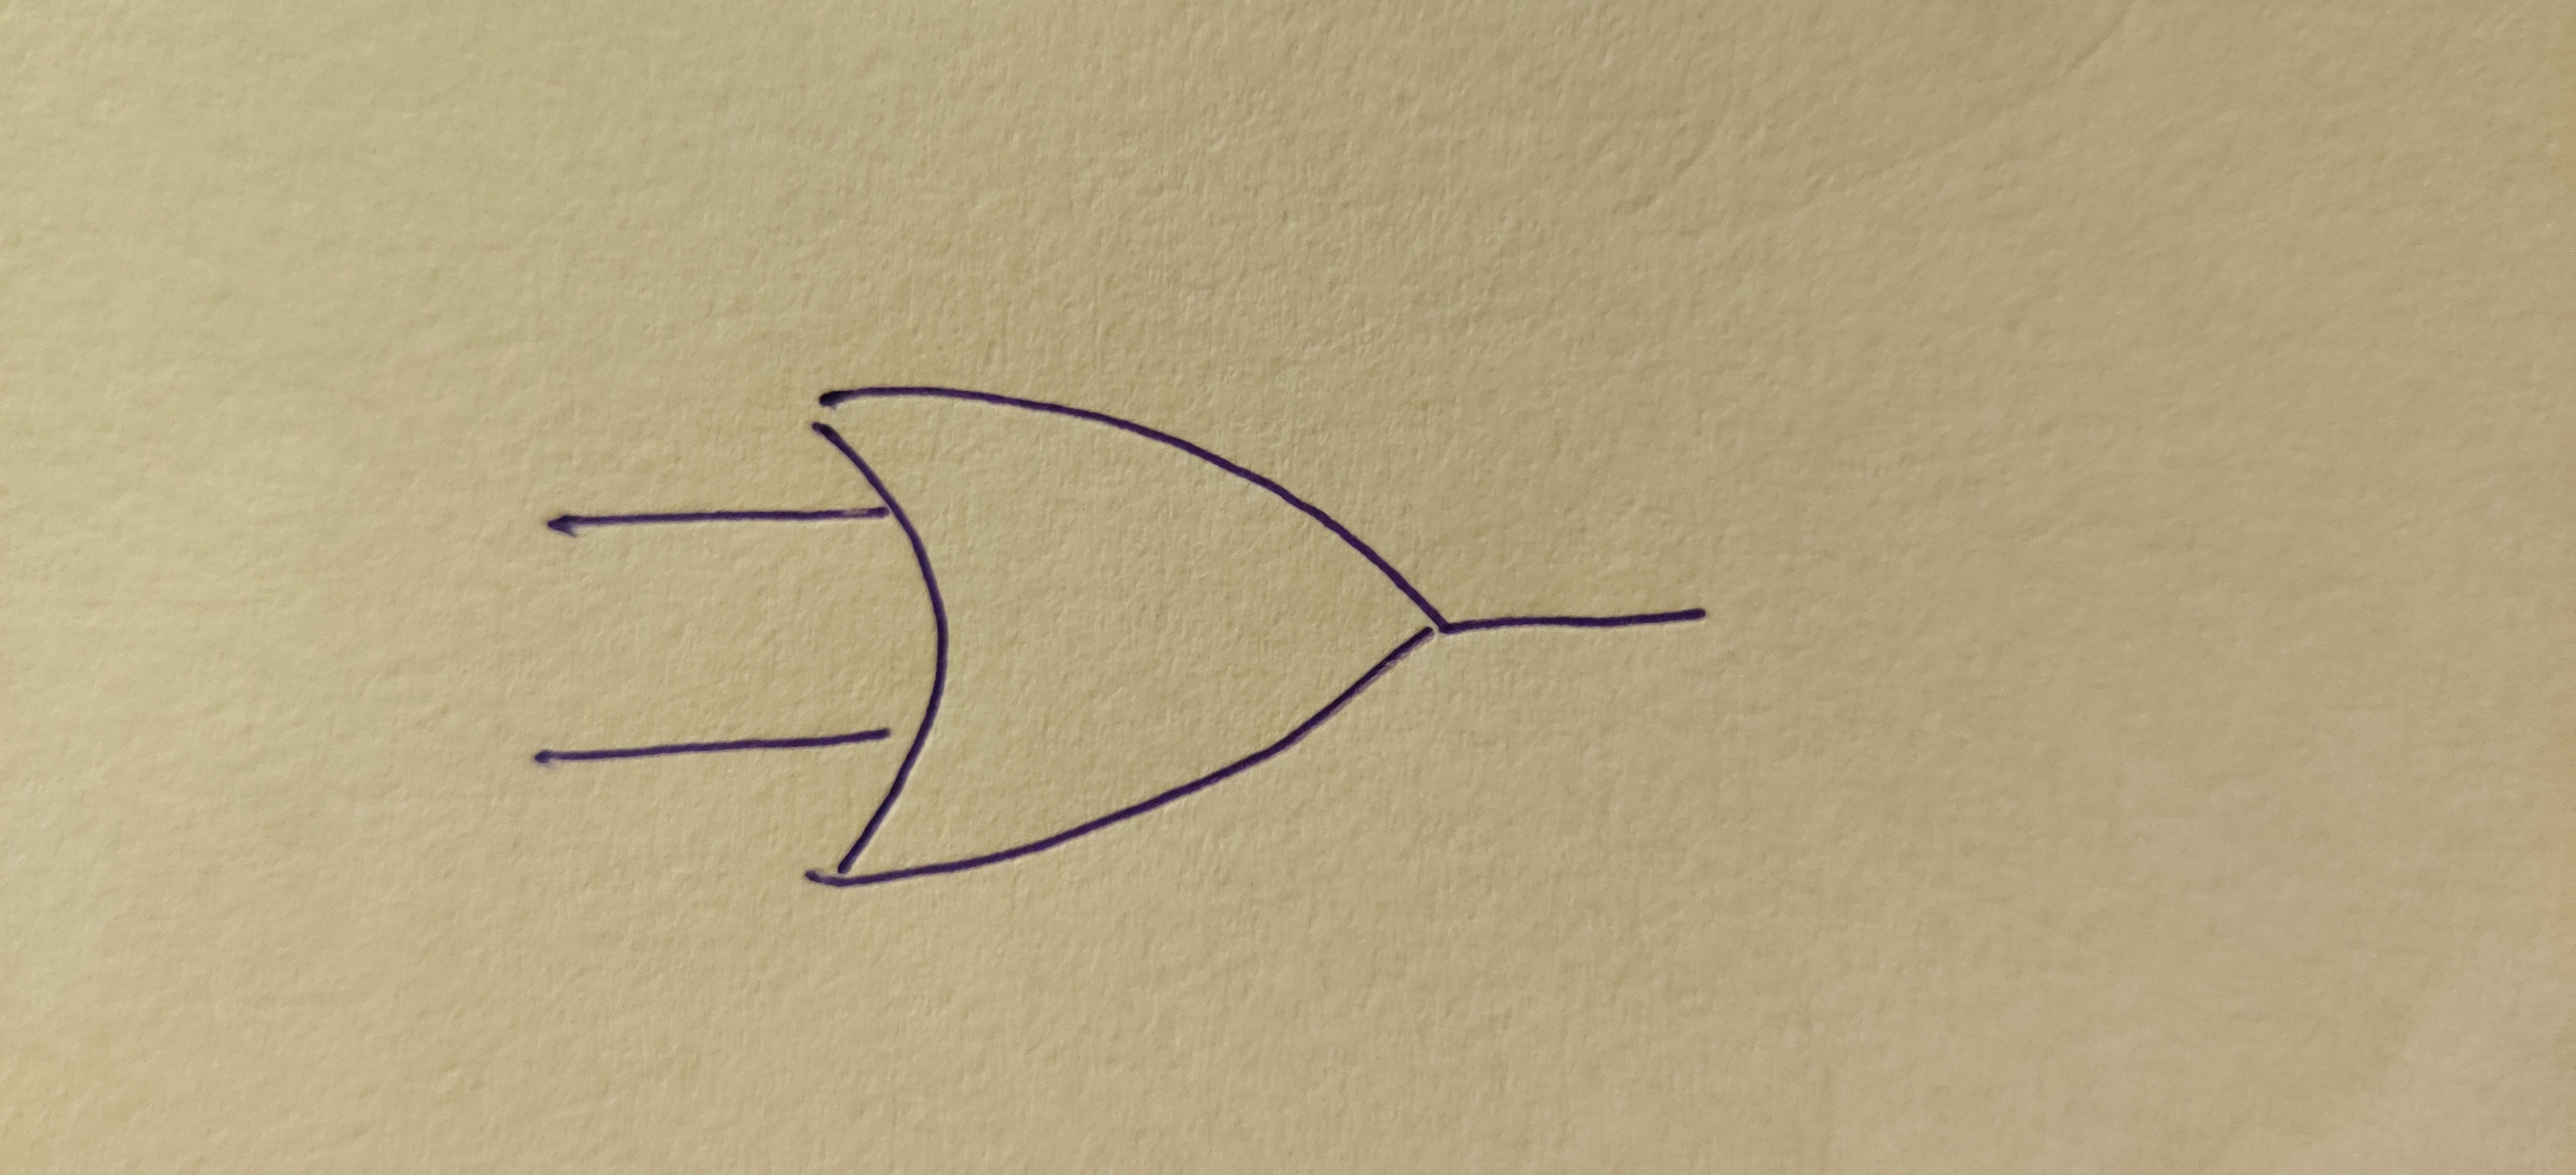or: (816, 383, 1447, 886)
